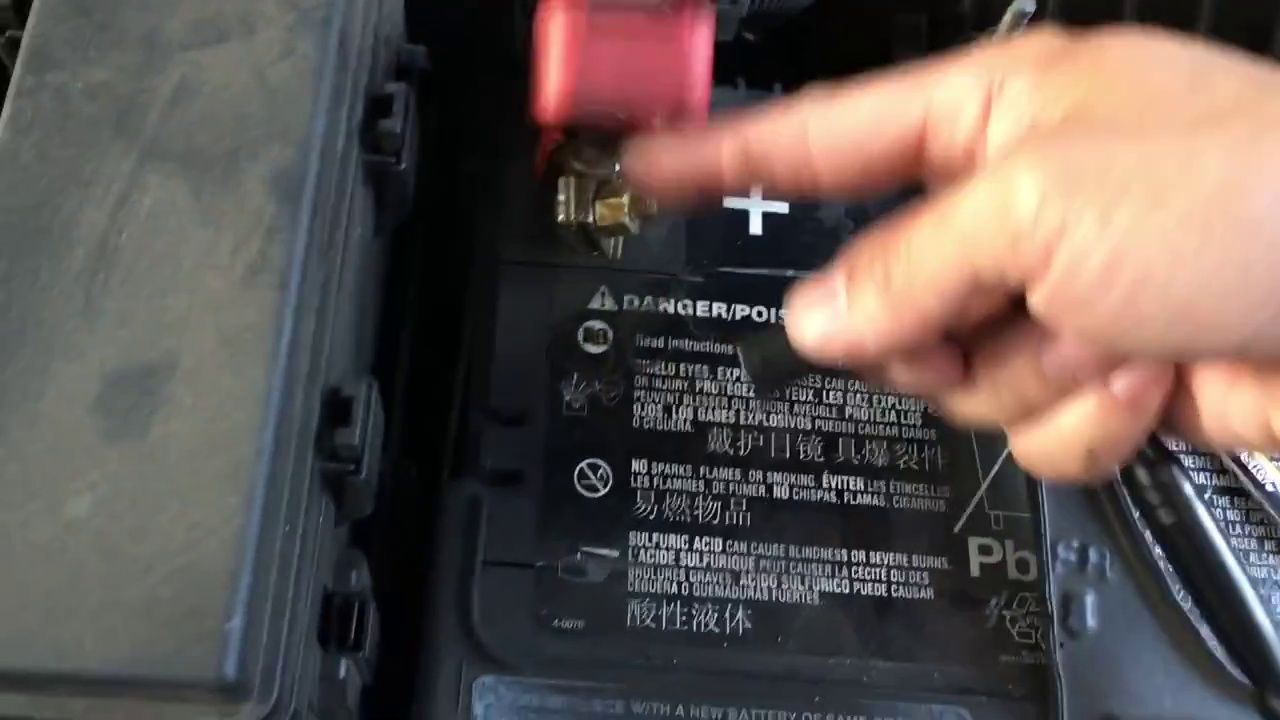battery: (503, 77, 1275, 680)
pos_touched: (498, 16, 1009, 364)
